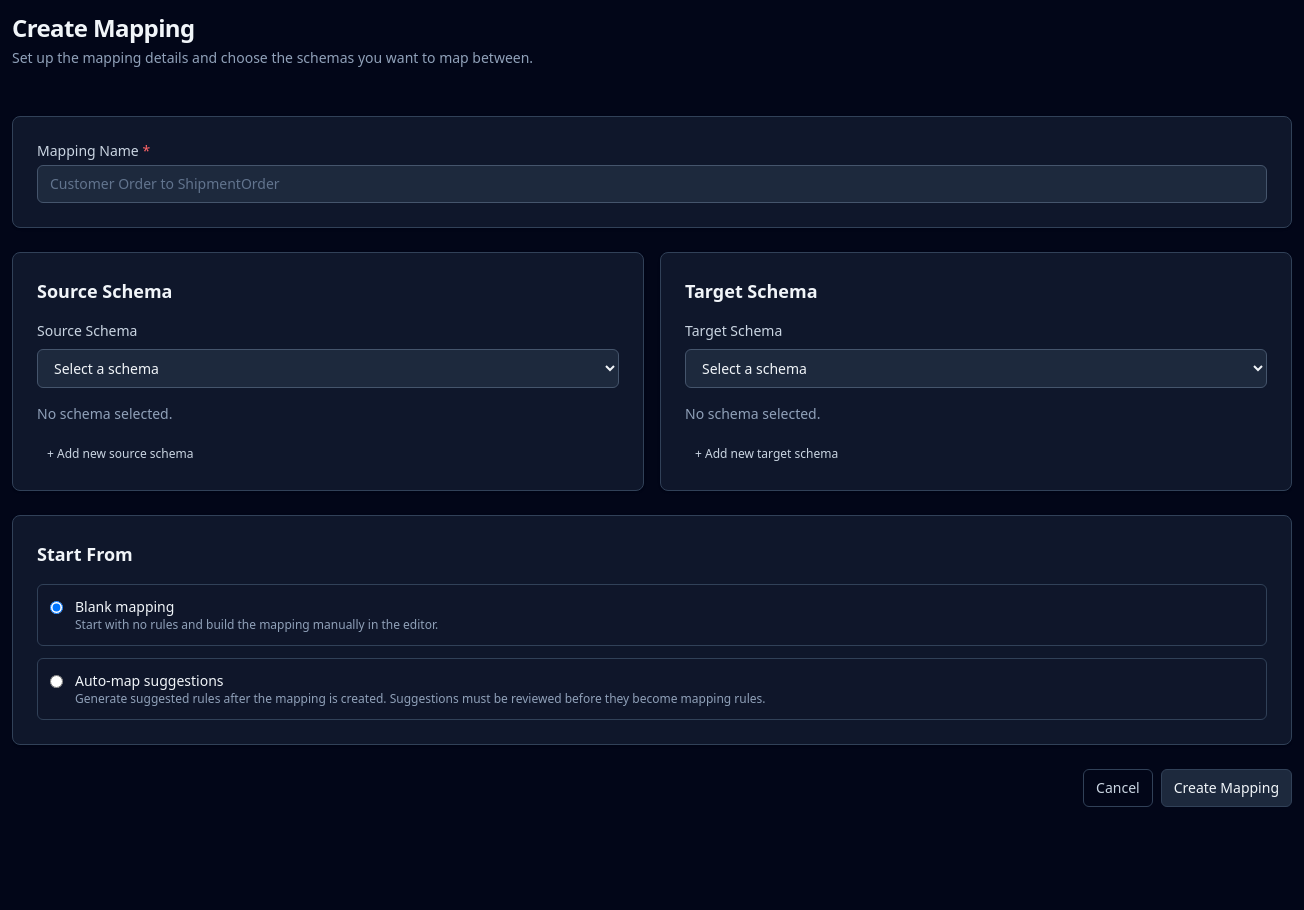
Test case: CreateMappingPage (FS-088 T-08) › AE-08: removes standalone schema summary section and keeps metrics in schema cards
Select "Schema Alpha • User • Ready • JSON-SCHEMA • 4 fields" in the dropdown with test id "schema-select-source-schema" at (328, 368), box x1=37 y1=349 x2=619 y2=388
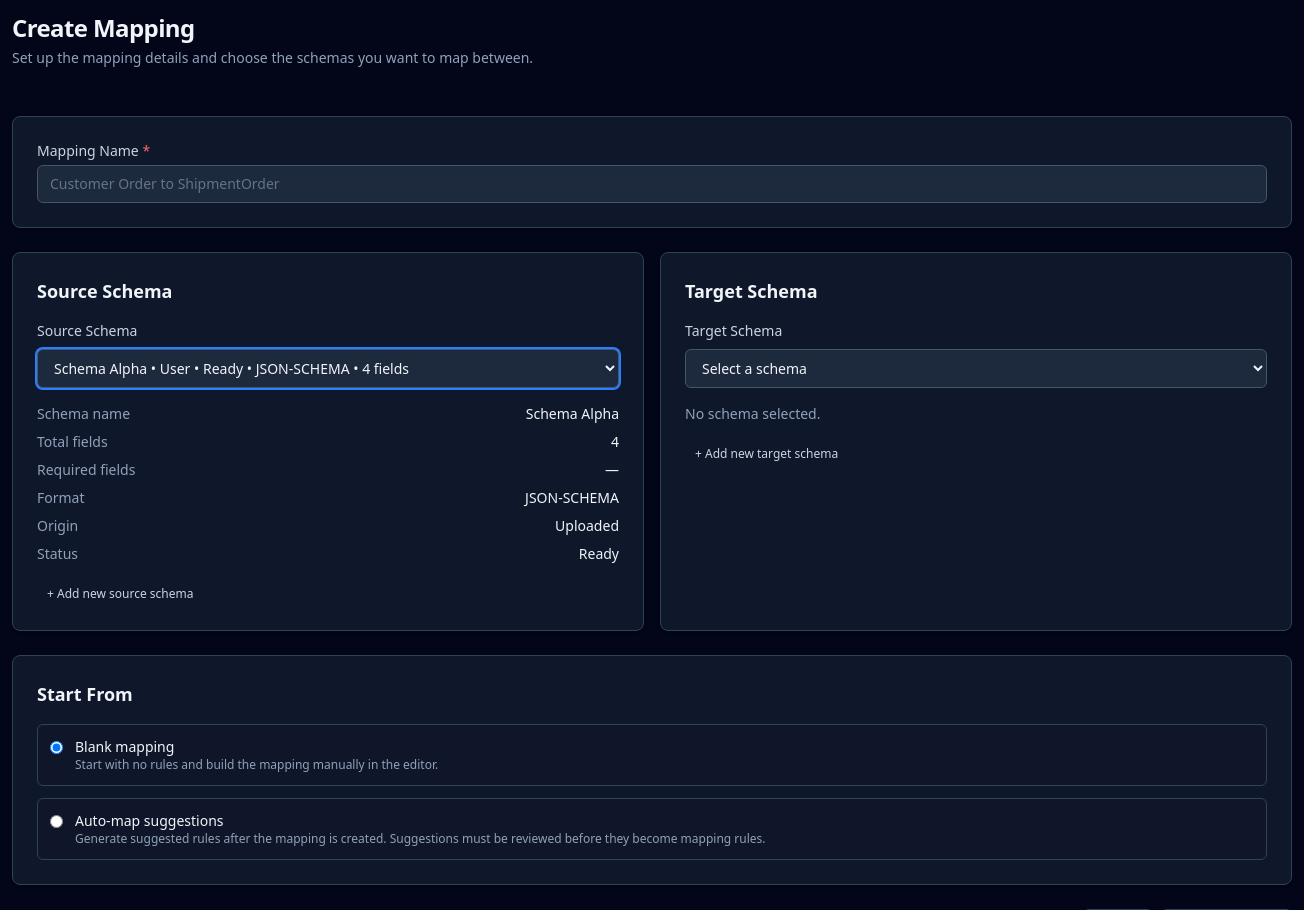
Select "Schema Beta • CDM • Ready • XML • 2 fields" in the dropdown with test id "schema-select-target-schema" at (976, 368), box x1=685 y1=349 x2=1267 y2=388
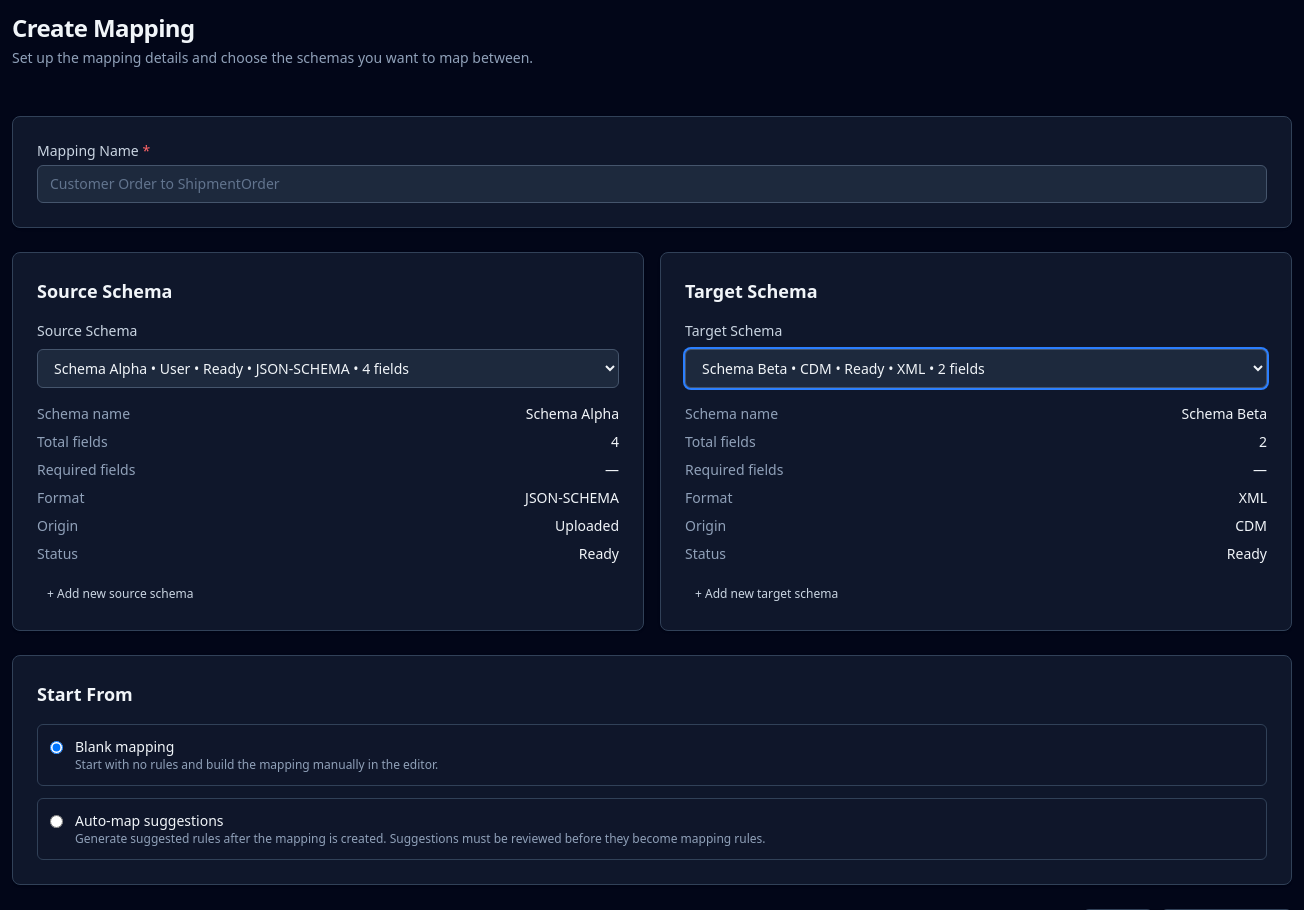
Expected: the element with test id "source-total-fields" shows "4", x1=611 y1=432 x2=619 y2=451
Expected: the element with test id "source-required-fields" shows "—", x1=605 y1=460 x2=619 y2=479
Expected: the element with test id "target-total-fields" shows "2", x1=1259 y1=432 x2=1267 y2=451
